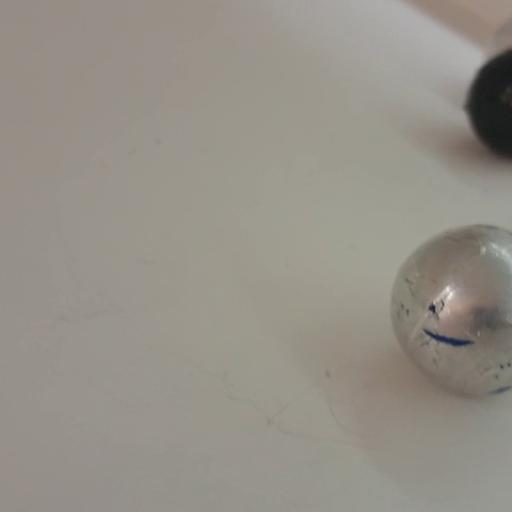alive: (385, 222, 512, 402), (491, 22, 511, 66)
dead: (466, 44, 511, 155)
